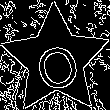O_N: (28, 29, 84, 91)
